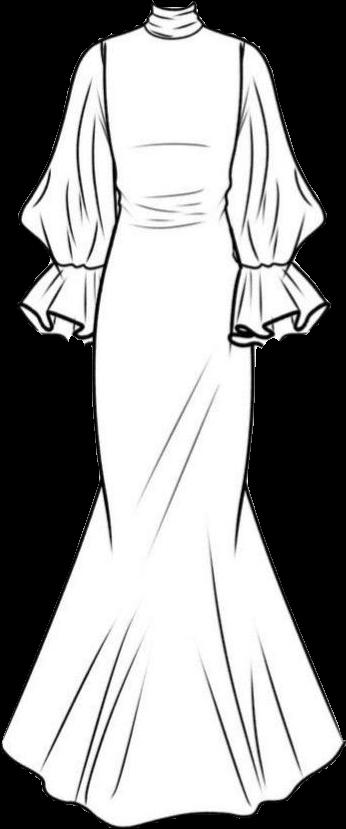Bodice: (101, 1, 243, 220)
Hemline: (0, 737, 345, 828)
Neckline: (151, 0, 197, 14)
Skirt: (2, 215, 344, 824)
Sleeve: (225, 38, 330, 350), (18, 39, 120, 342)
Sleeveline: (92, 39, 112, 136), (236, 42, 253, 128), (48, 255, 109, 273), (241, 256, 300, 273)
